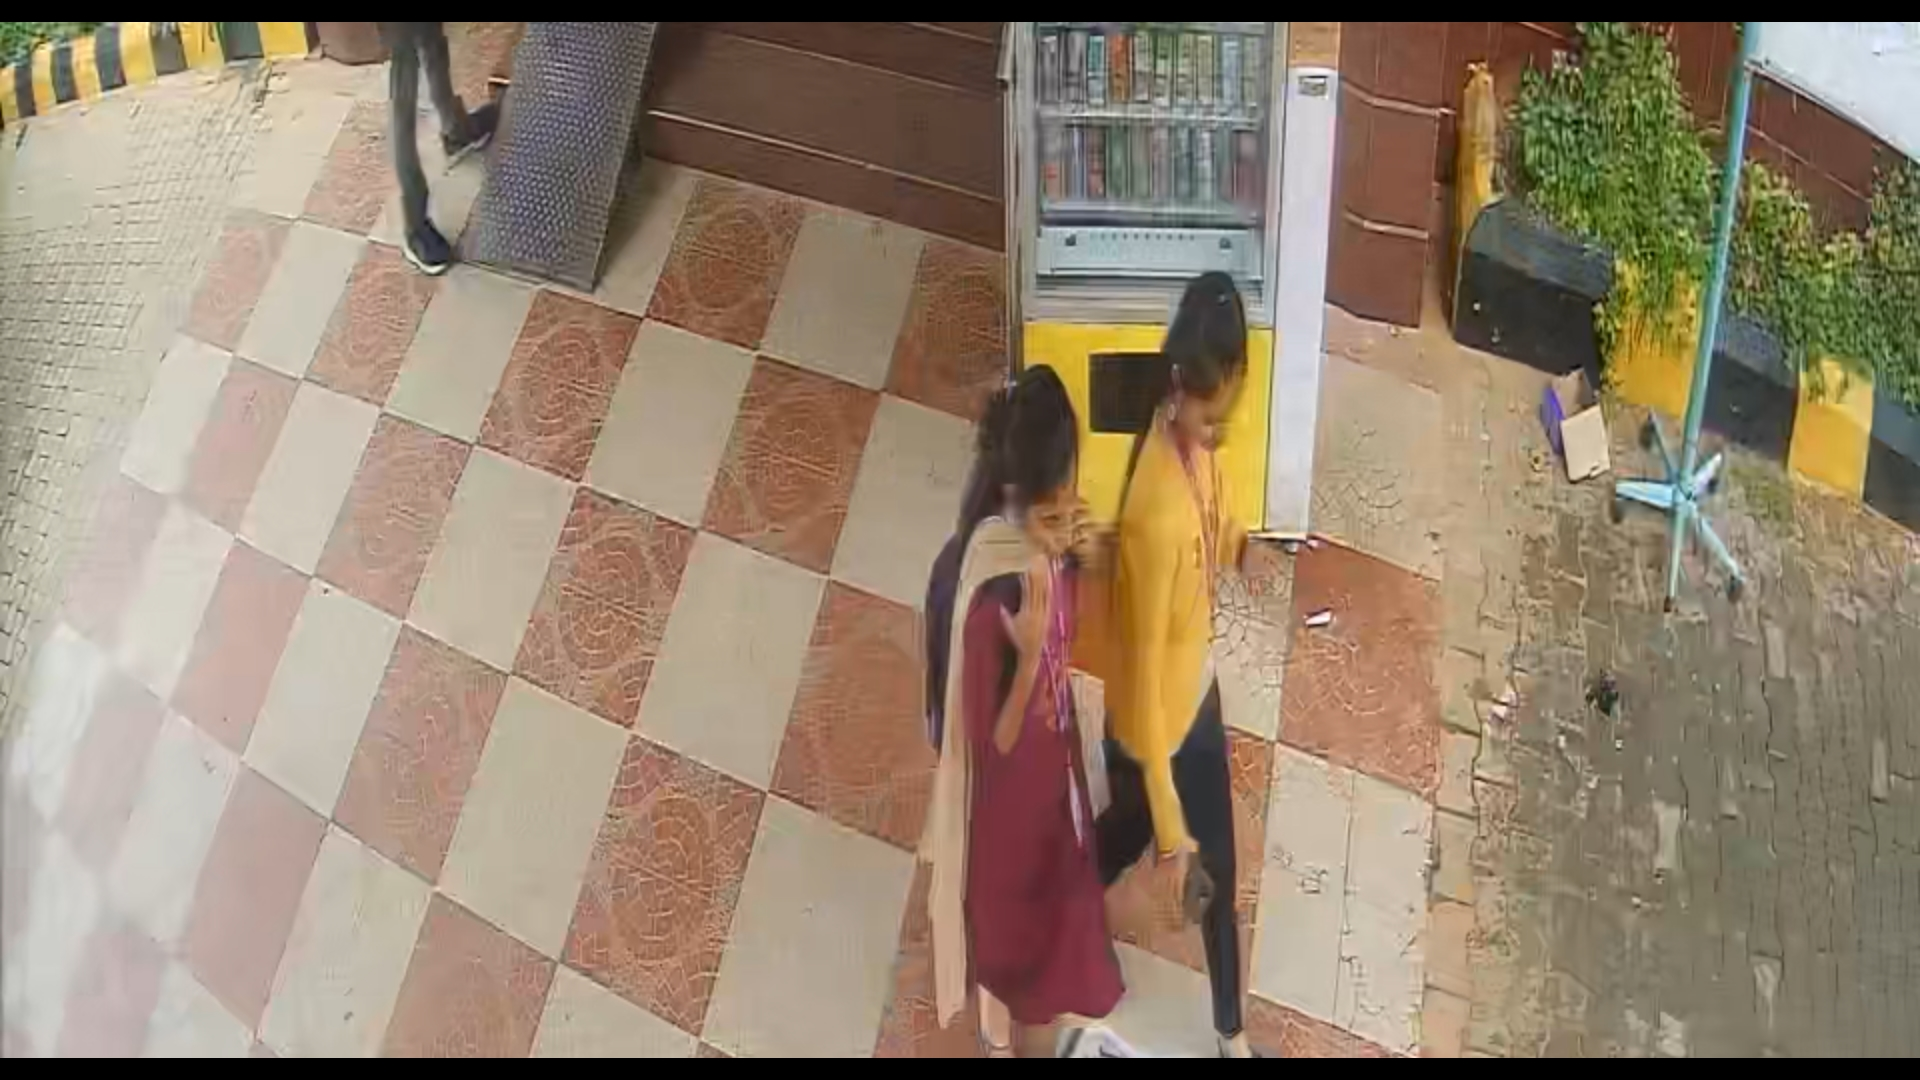not intruder: (913, 338, 1135, 1079), (1101, 257, 1280, 1059)
